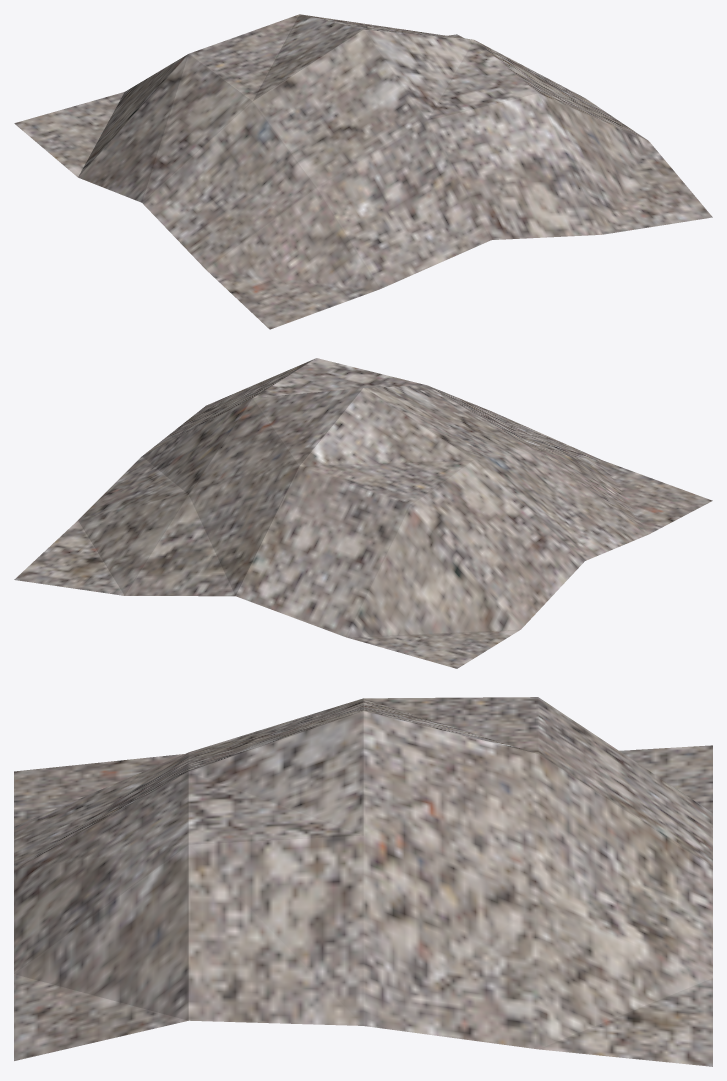
File: debris_1.fbx
3 views of the same model, one above another, from view 1: azimuth 30°, elevation 25°; view 2: azimuth 150°, elevation 25°; view 3: azimuth 270°, elevation 25° (orthographic). The views are drawn at different scales.
Visible parts, largest first — view 1: debris_1; view 2: debris_1; view 3: debris_1.
Boxes of the visible parts, x1,y1,x2,y2 form: debris_1: (14, 14, 712, 329); debris_1: (14, 358, 712, 668); debris_1: (14, 697, 712, 1066).
Size of the model in its own units: 50 by 16.43 by 50.
